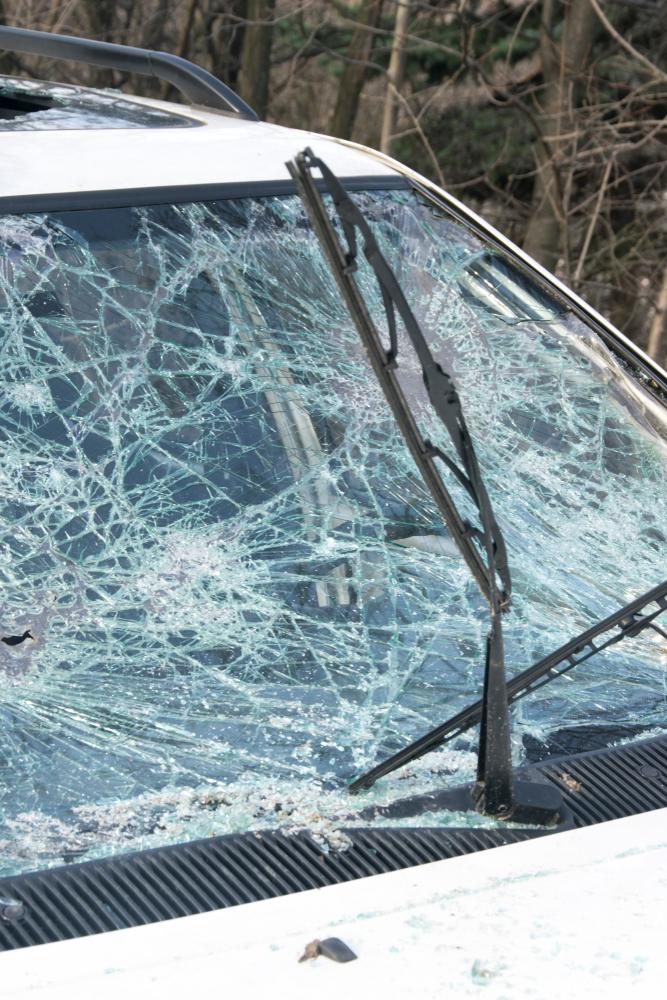glass shatter: (0, 187, 667, 878)
